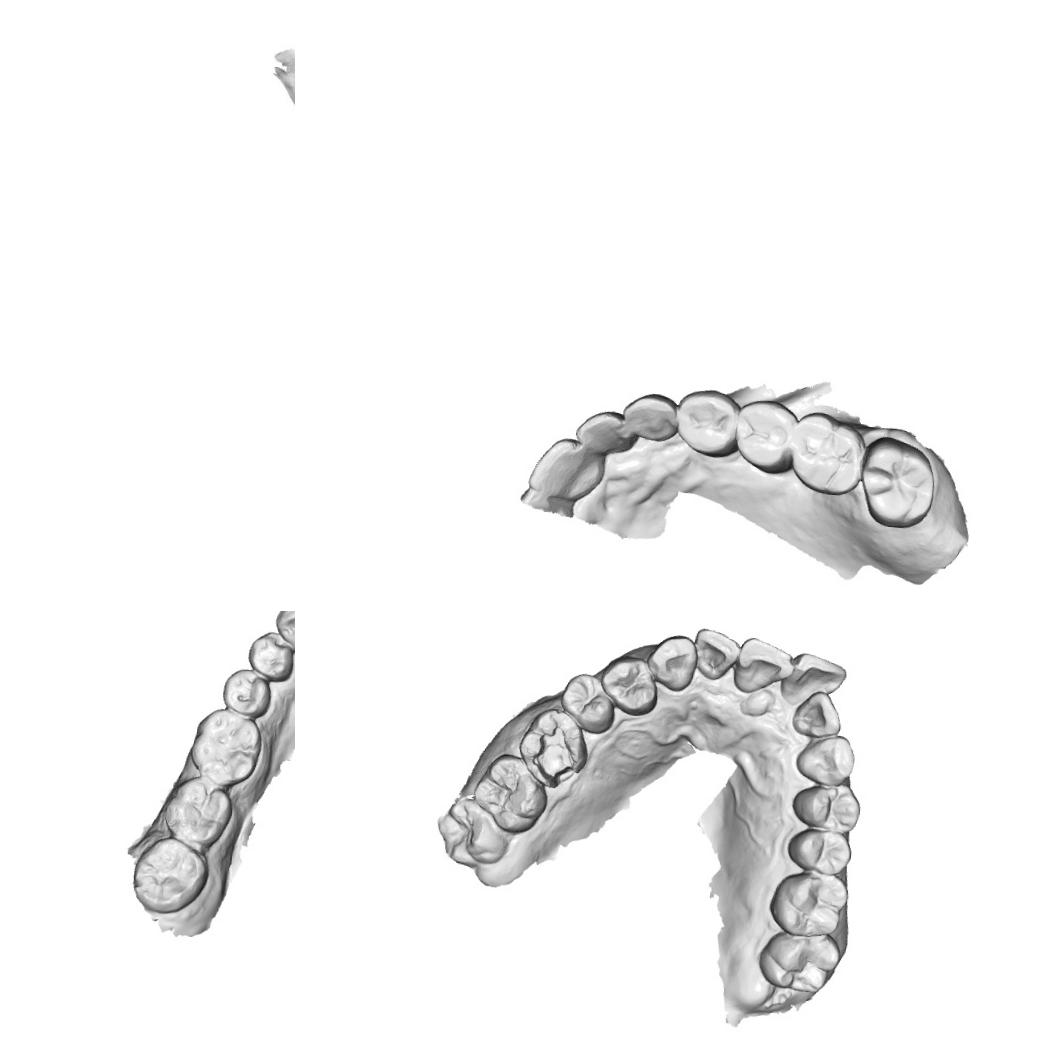canine: (792, 731, 856, 788), (642, 631, 699, 693), (621, 388, 679, 444), (271, 611, 295, 658)
incisor: (524, 432, 608, 501), (777, 650, 848, 710), (730, 634, 797, 697), (567, 406, 632, 458), (689, 626, 743, 682), (789, 688, 844, 740)
inlay: (526, 720, 583, 788)
molar: (853, 432, 940, 532), (784, 408, 868, 499), (128, 832, 212, 917), (468, 750, 551, 836), (430, 789, 514, 872), (186, 704, 264, 788), (764, 868, 850, 940), (754, 926, 842, 996), (160, 772, 235, 852)
premolar: (730, 394, 801, 478), (672, 386, 742, 460), (788, 779, 865, 835), (596, 653, 661, 718), (557, 670, 618, 736), (784, 826, 852, 876), (218, 664, 274, 720), (244, 629, 295, 682)
